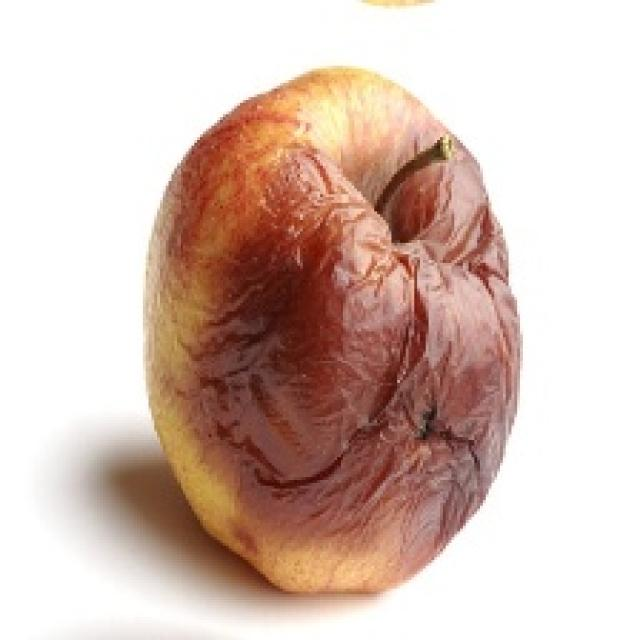rotten_apple: (157, 72, 512, 580)
